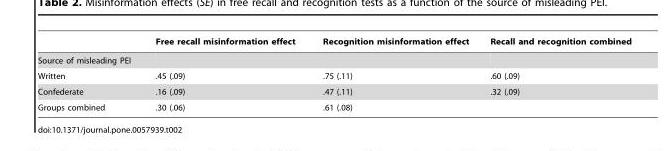table: (37, 36, 630, 111)
table column: (308, 36, 478, 111), (142, 36, 308, 111), (478, 36, 630, 111), (37, 36, 142, 111)
table column header: (37, 36, 630, 50)
table projected row header: (37, 50, 630, 67)
table row: (37, 50, 630, 67), (37, 67, 630, 83), (37, 83, 630, 99), (37, 36, 630, 50), (37, 99, 630, 111)
